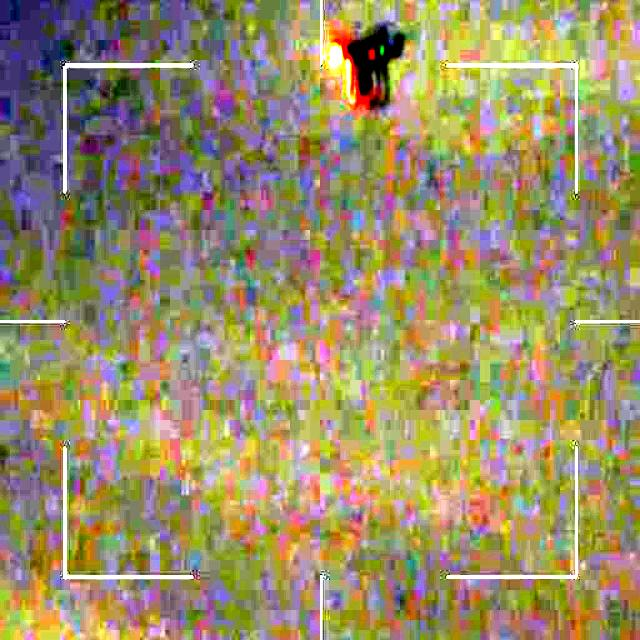bird: (320, 25, 406, 119)
